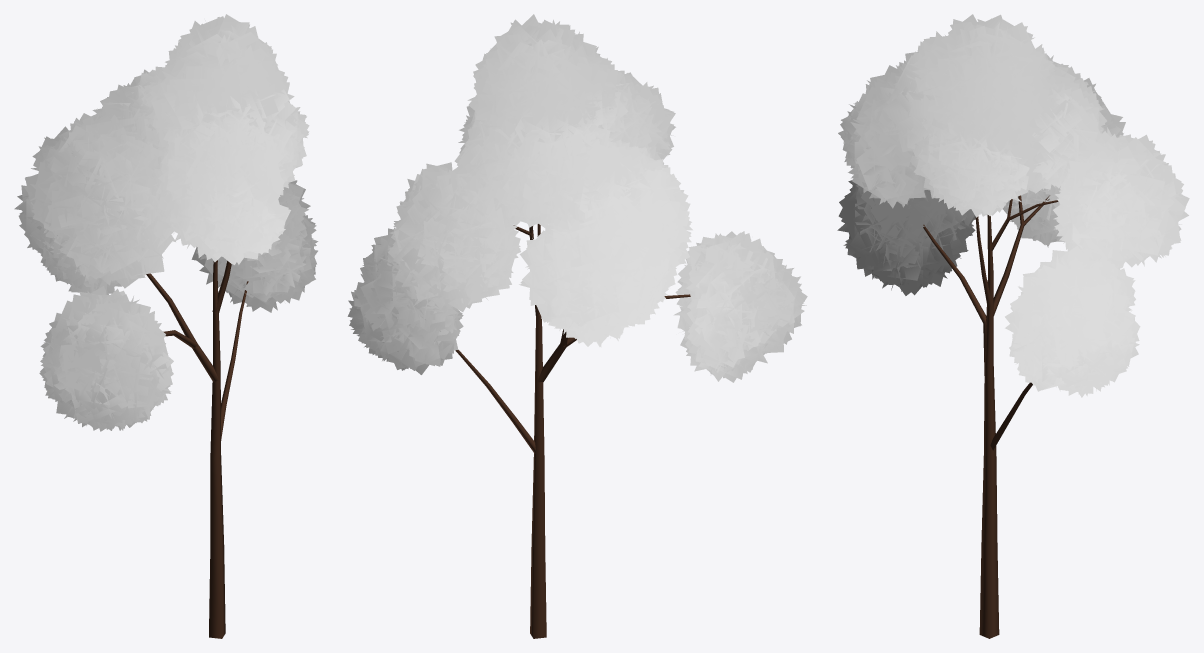
File: Tree1Lod0.fbx
3 views of the same model, side by side, from view 1: azimuth 30°, elevation 25°; view 2: azimuth 150°, elevation 25°; view 3: azimuth 270°, elevation 25° (orthographic).
Parts seen in each view (by area): view 1: leaves, Trunk; view 2: leaves, Trunk; view 3: leaves, Trunk.
Part boxes in pixels (x1,y1,x2,y2): leaves: (14,14,318,431); Trunk: (146,260,248,638); leaves: (347,14,807,382); Trunk: (455,224,690,638); leaves: (837,14,1189,397); Trunk: (923,195,1058,638).
Bounding box in the file's own units: 422 × 702 × 362.
